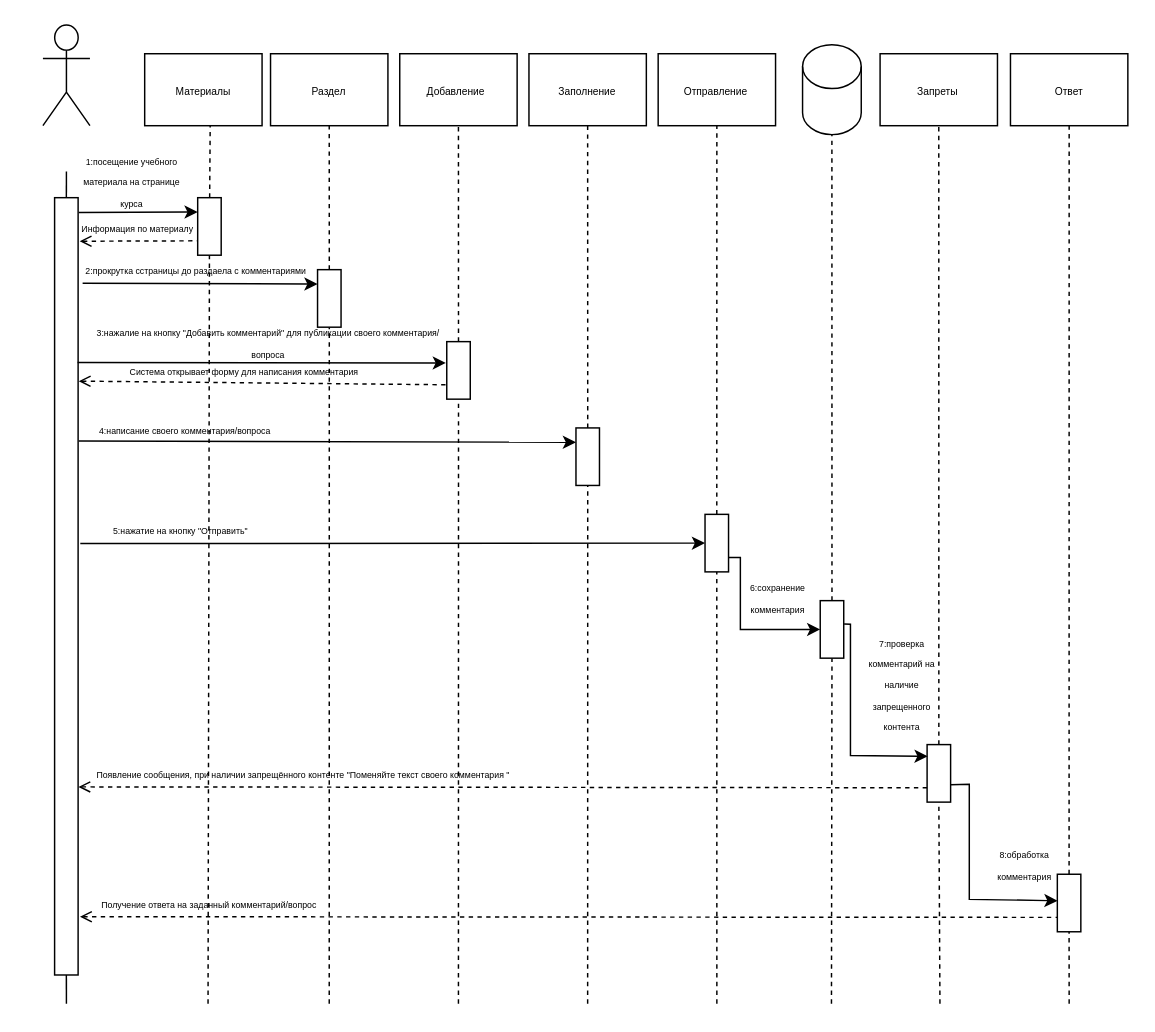
This 1155x1032 diagram has some shape labels left out. Each missing label, with the centre of its shape:
"БД" goes at pixel 831 89.
"Учащийся" goes at pixel 65 75.
